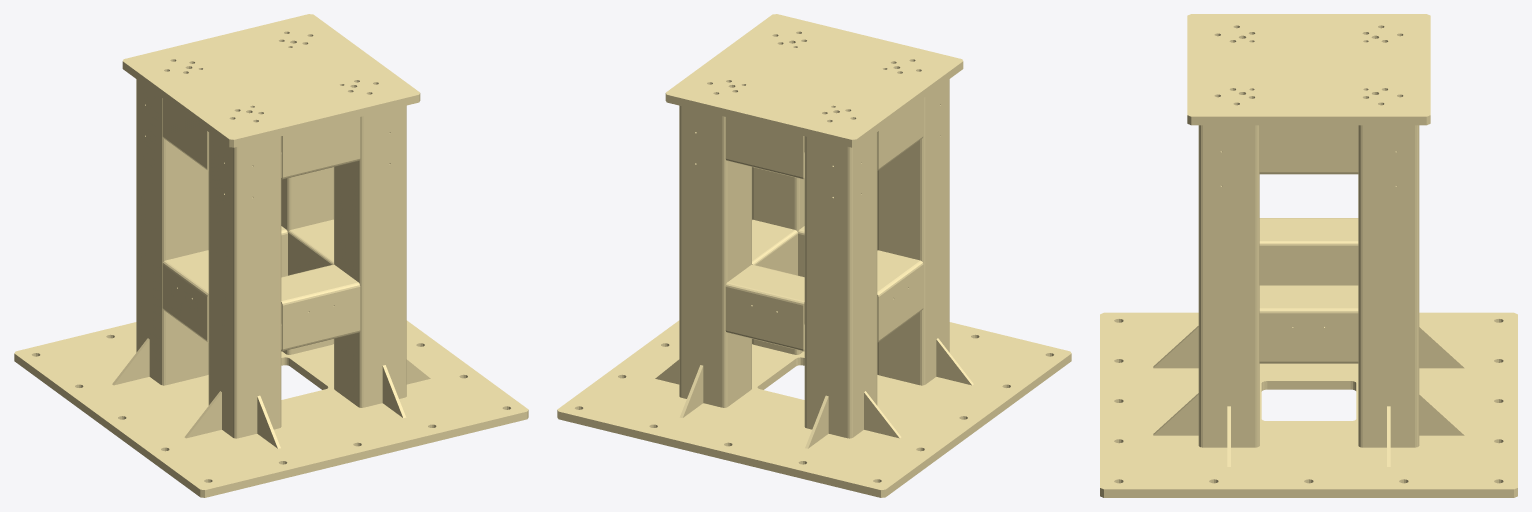
3 views of the same model, side by side, from view 1: azimuth 30°, elevation 25°; view 2: azimuth 150°, elevation 25°; view 3: azimuth 270°, elevation 25° (orthographic). The views are drawn at different scales.
Visible parts, largest first — view 1: Base; view 2: Base; view 3: Base.
Part boxes in pixels (x1=…): Base: x1=14, y1=14, x2=528, y2=497; Base: x1=557, y1=14, x2=1071, y2=497; Base: x1=1100, y1=14, x2=1517, y2=497.
Bounding box in the file's own units: 1.1 × 1.1 × 1.
